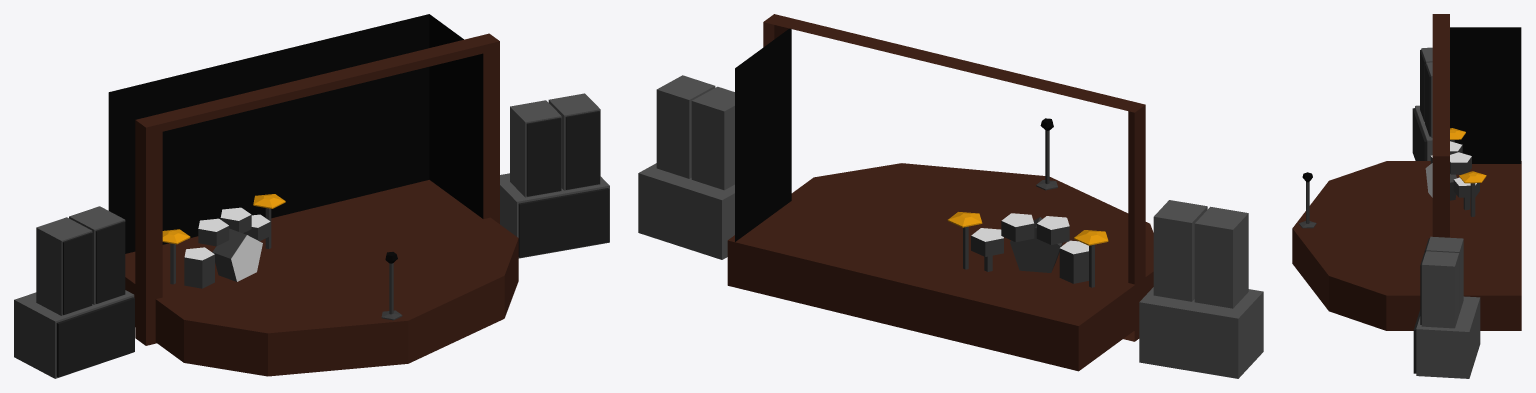
The model's file is MusicPlace3.dae.
3 renders of one model, left to right at view 1: azimuth 30°, elevation 25°; view 2: azimuth 150°, elevation 25°; view 3: azimuth 270°, elevation 25°, orthographic. The views are drawn at different scales.
Visible parts, largest first — view 1: MusicPlace3; view 2: MusicPlace3; view 3: MusicPlace3.
Boxes of the visible parts, x1,y1,x2,y2 form: MusicPlace3: (14, 14, 609, 378); MusicPlace3: (638, 14, 1263, 378); MusicPlace3: (1292, 14, 1521, 378).
Bounding box in the file's own units: 39.32 × 16.6 × 14.38.
